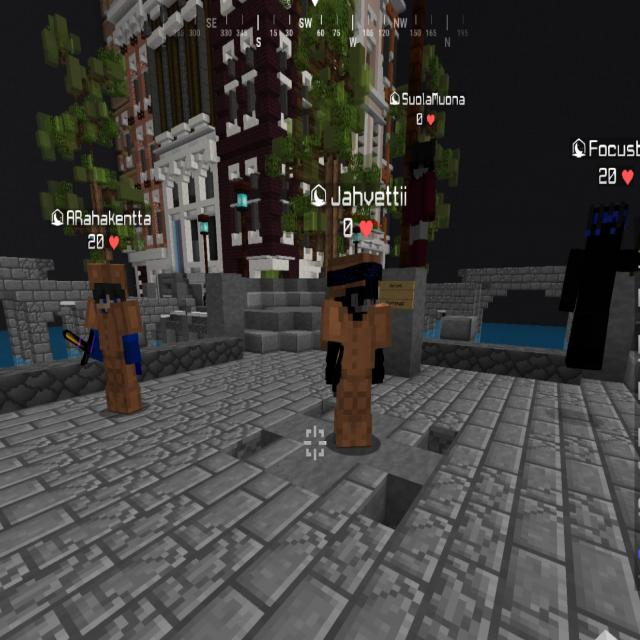Player: (322, 251, 389, 449), (560, 202, 626, 371), (79, 262, 145, 414), (405, 140, 439, 267)
